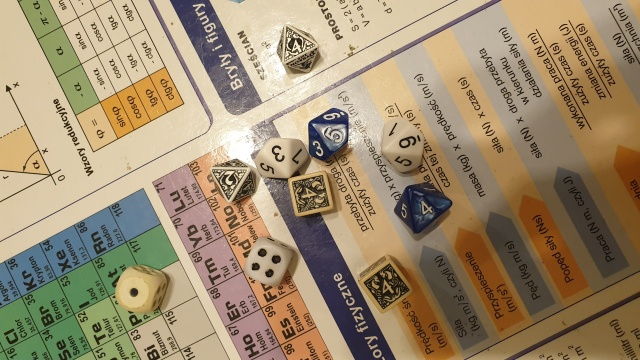d10-3: (253, 137, 309, 179)
d10-4: (389, 179, 455, 236)
d10-5: (306, 106, 351, 165)
d10-9: (375, 114, 427, 177)
d6-1: (112, 267, 167, 312)
d6-4: (240, 238, 295, 289)
d6p-4: (356, 257, 415, 318), (288, 172, 334, 218)
d8p-2: (211, 155, 256, 208)
d8p-4: (275, 21, 322, 78)
